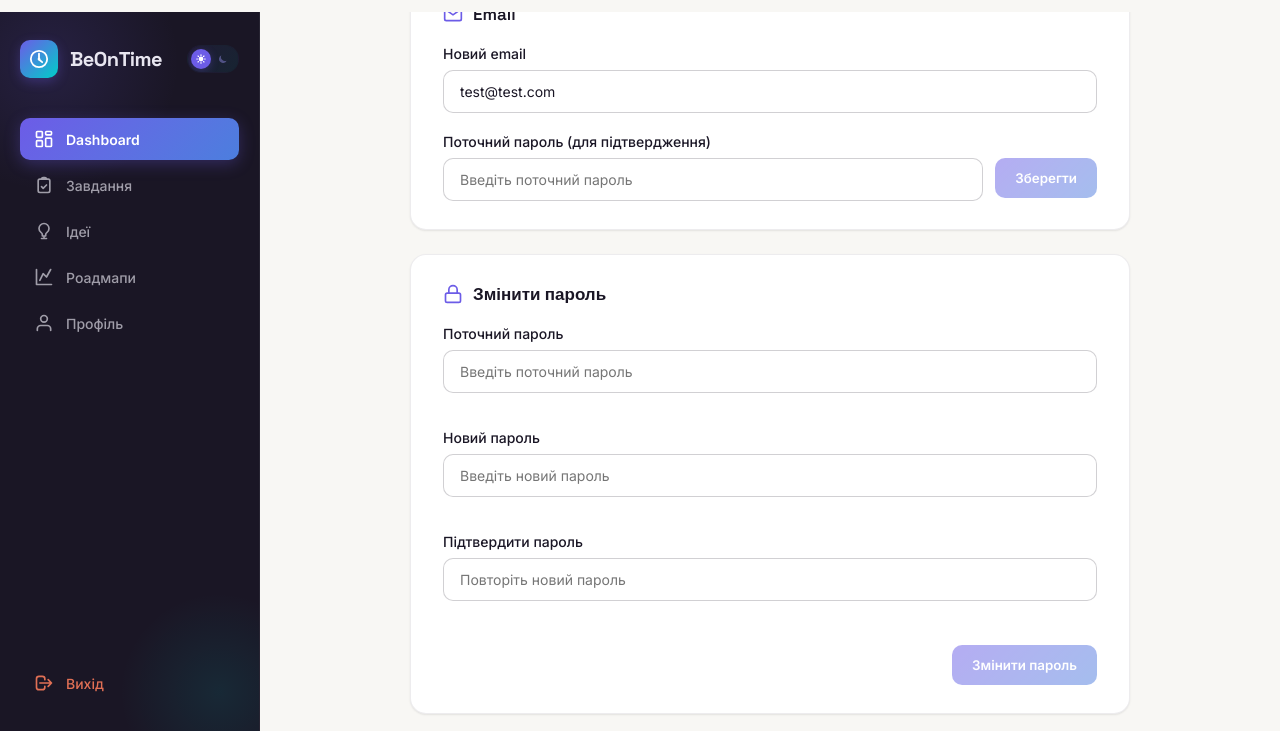
ProfilePage Component › повинен показувати помилку, якщо паролі не співпадають
(page scrolled)
In the password field labelled "Поточний пароль": coordinates (770, 372) [443,350,1097,393], type "OldPass"
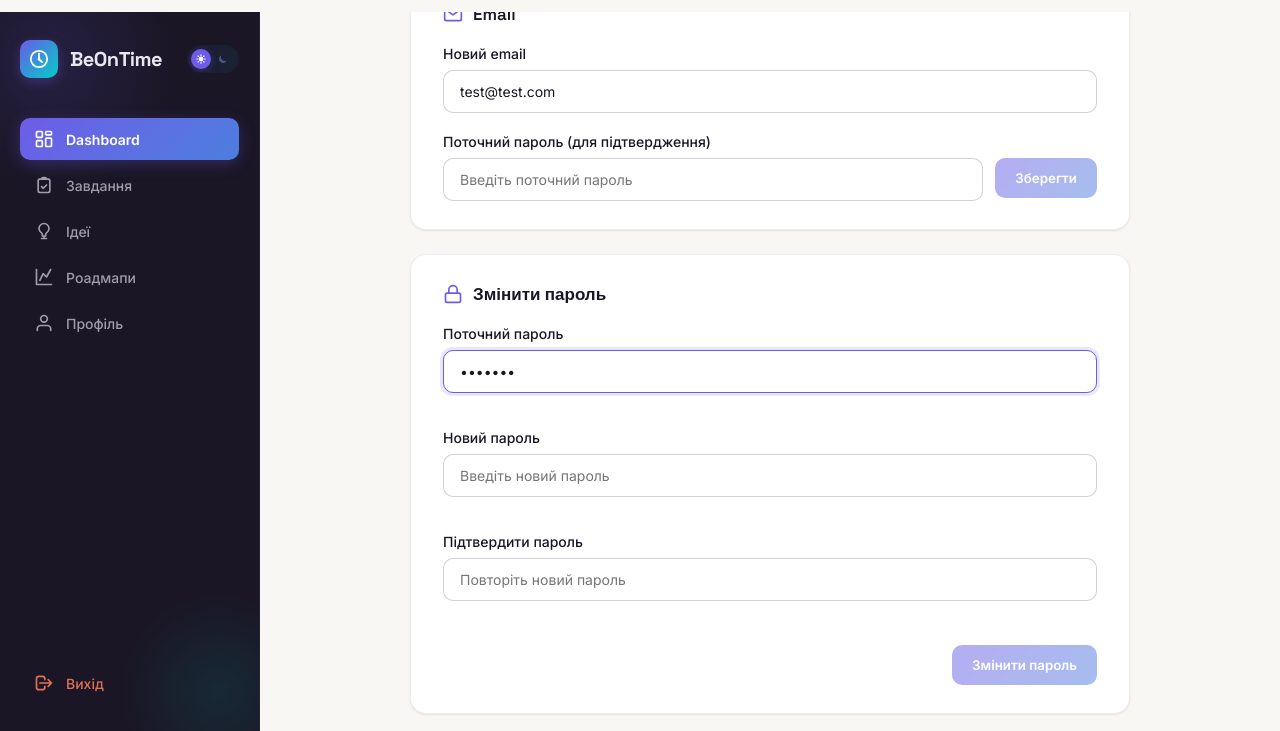
In the password field labelled "Новий пароль": coordinates (770, 476) [443,454,1097,497], type "NewPass1"
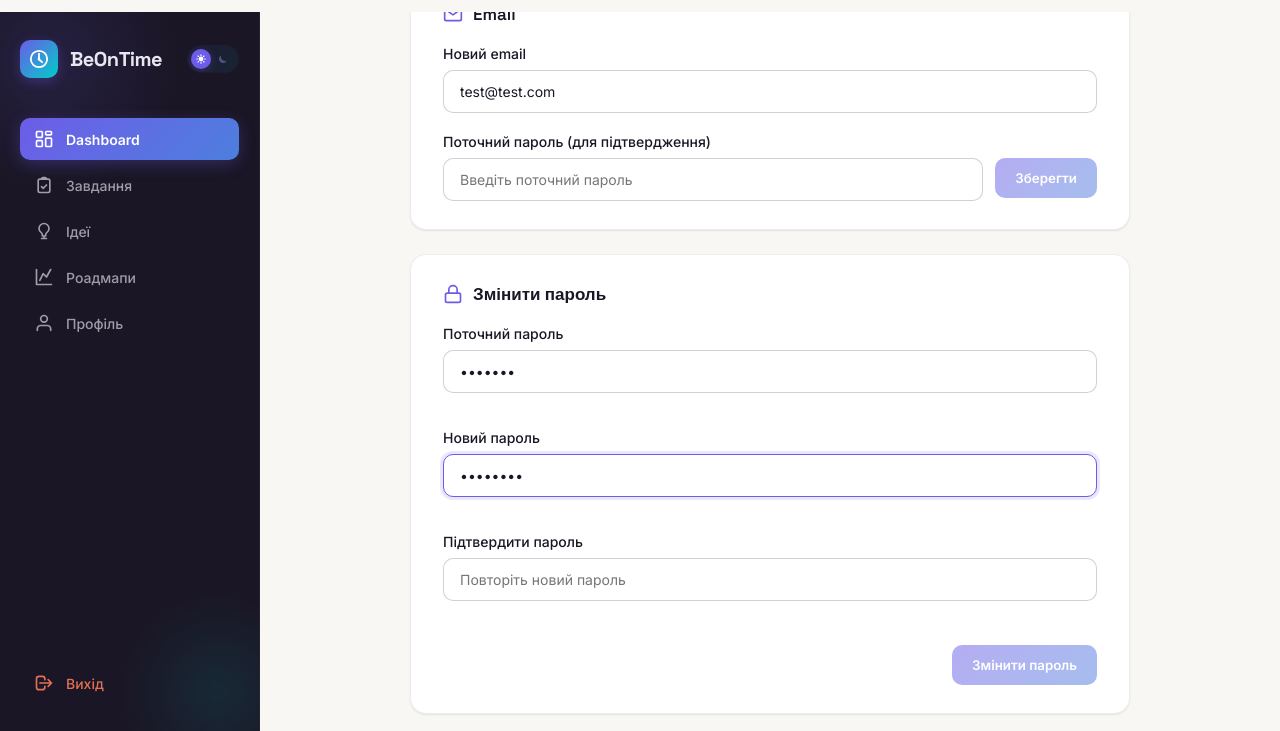
In the password field labelled "Підтвердити пароль": coordinates (770, 580) [443,558,1097,601], type "NewPass2"
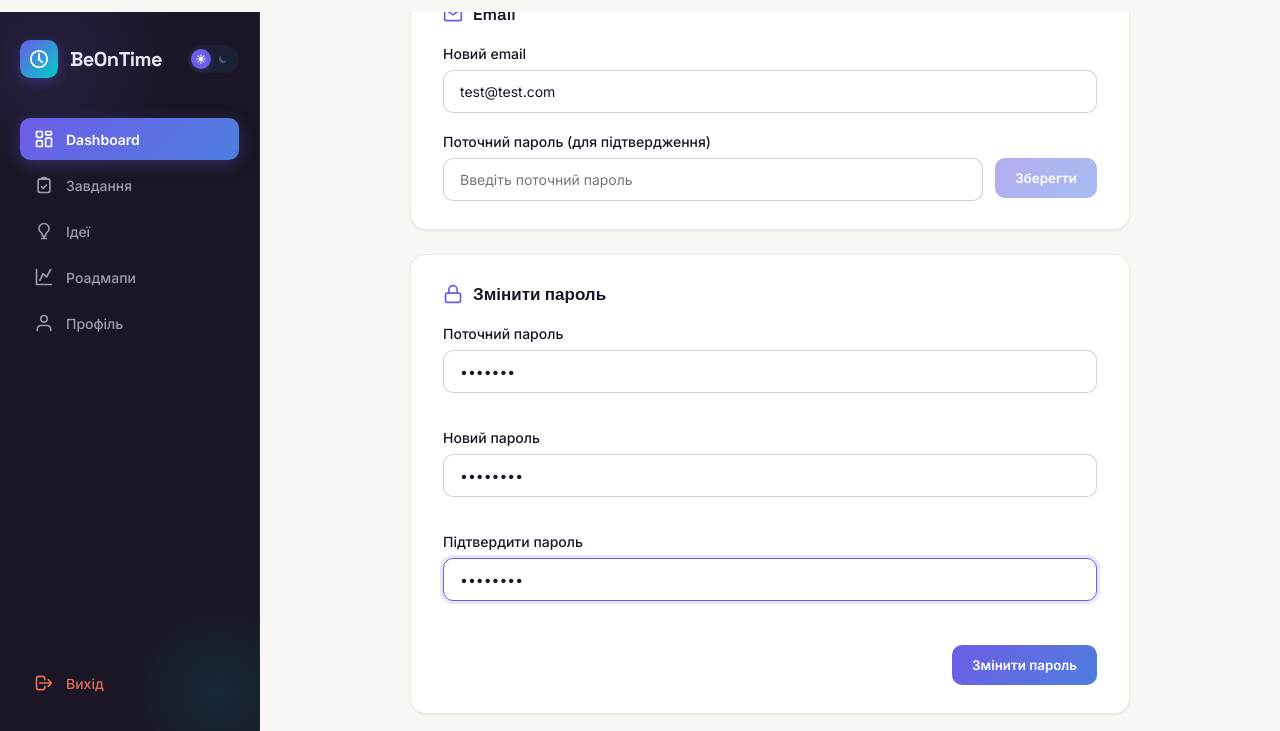
Click the button "Змінити пароль": coordinates (1025, 665) [952,645,1097,685]
(page scrolled)
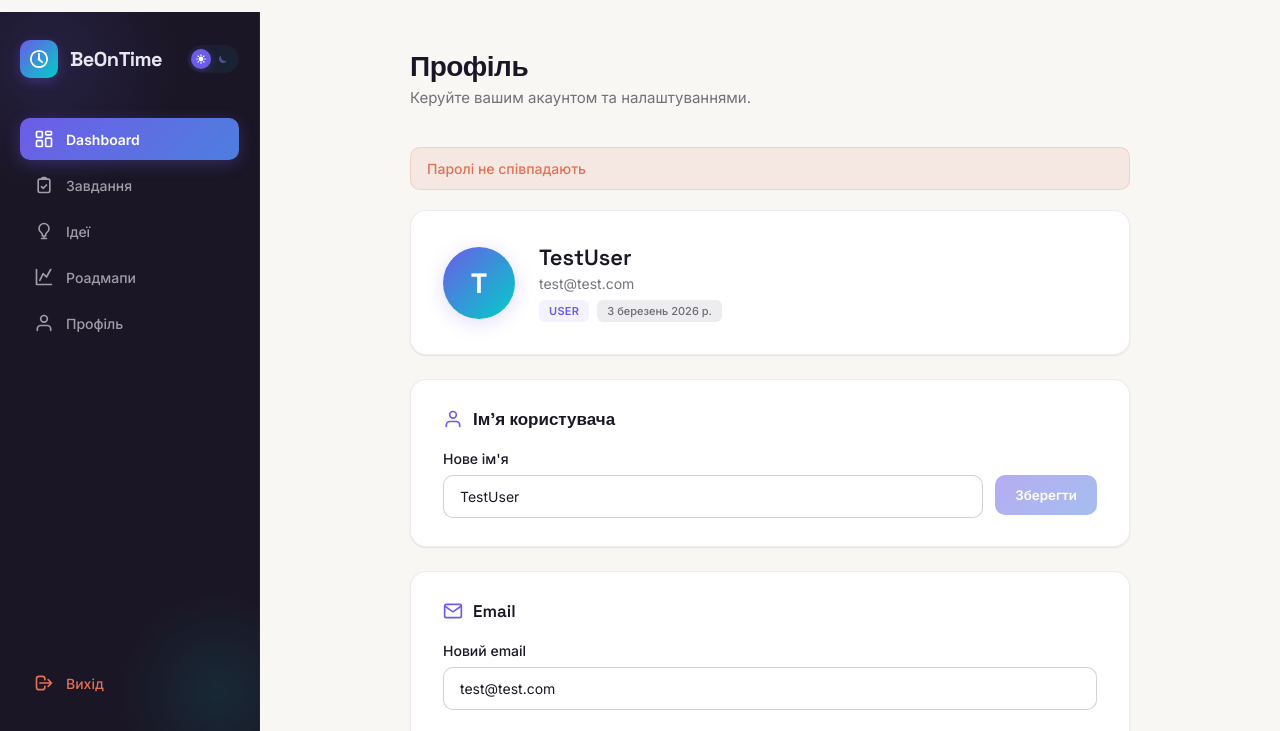
Expected: the text "Паролі не співпадають" is shown, [410,147,1130,190]
